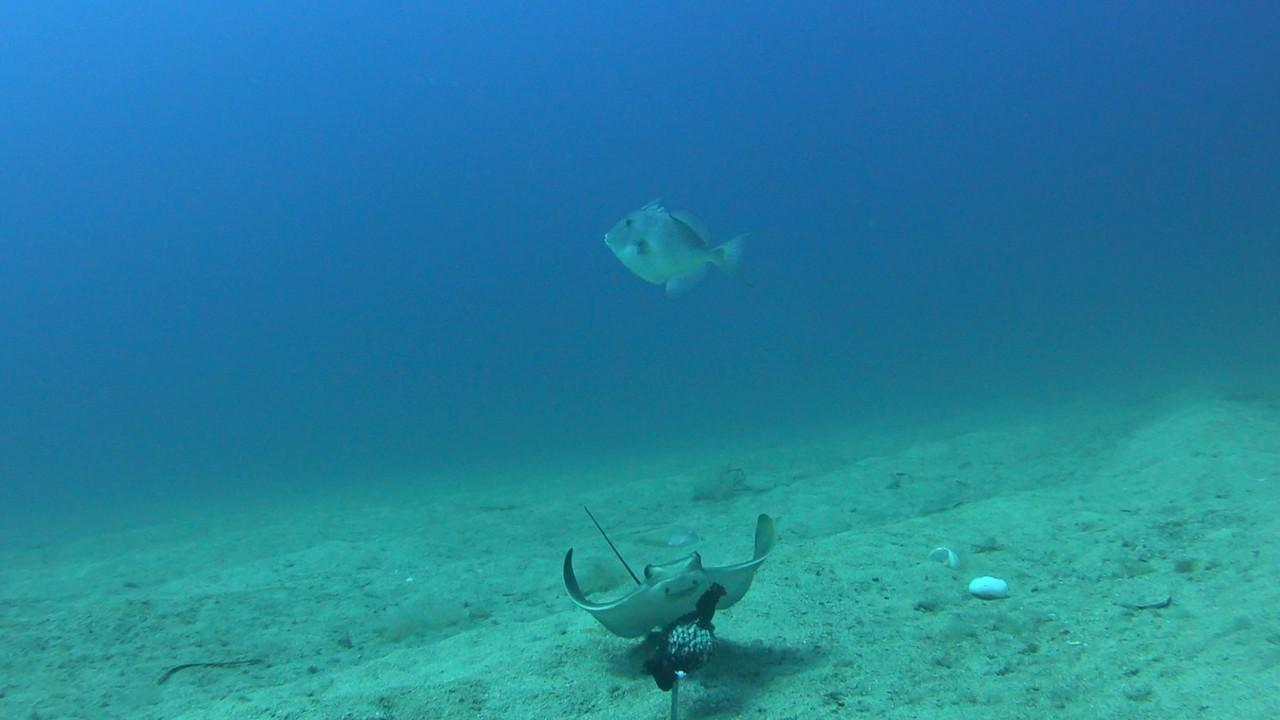balistes: (596, 194, 746, 304)
myliobatis: (521, 496, 801, 632)
